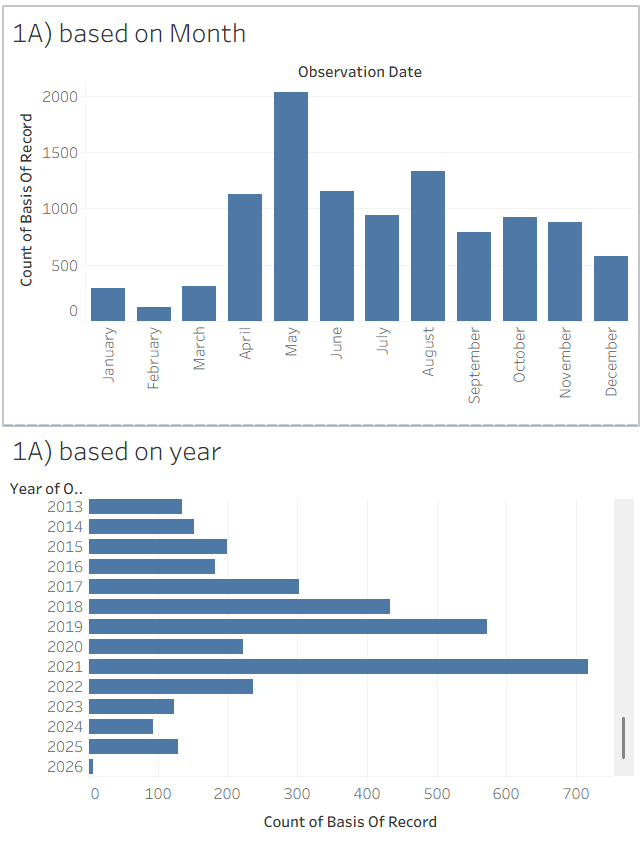

Layout of this report page (visuals, bound fields, positions):
{"tool":"tableau","page":{"name":"1-A","canvas":[650,860],"ordinal":0},"visuals":[{"type":"worksheet","title":"1A) based on Month","mark":"Bar","rows":["basisOfRecord"],"cols":["observationDate"],"box":[8,8.1,634,421.9]},{"type":"worksheet","title":"1A) based on year","mark":"Bar","rows":["observationDate"],"cols":["basisOfRecord"],"box":[8,430,634,421.9]}]}

Visuals, with their boxes in screenshot pixels (x1, y1, x2, y2), scaled from the page's 650x860 canvas onto the 644x868 screenshot:
"1A) based on Month" worksheet (Bar marks): x1=8 y1=8 x2=636 y2=434
"1A) based on year" worksheet (Bar marks): x1=8 y1=434 x2=636 y2=860
